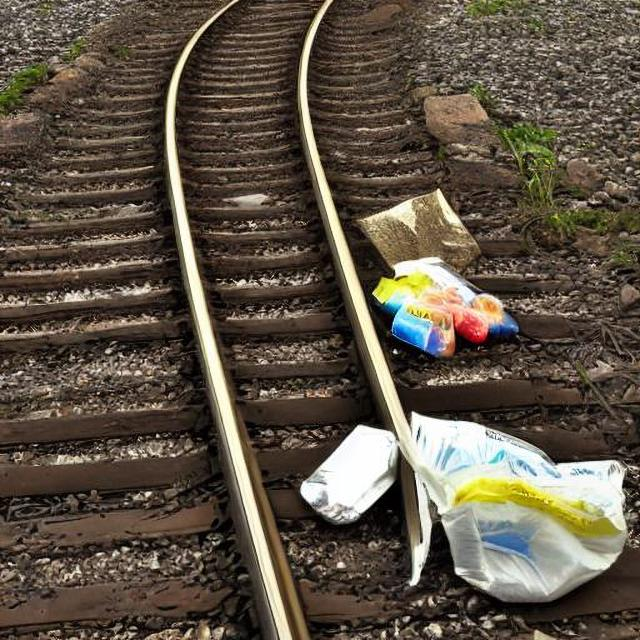plastic bag: (297, 412, 636, 600), (348, 186, 526, 356)
